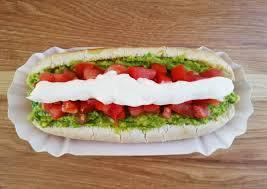Completos: (23, 41, 231, 152)
